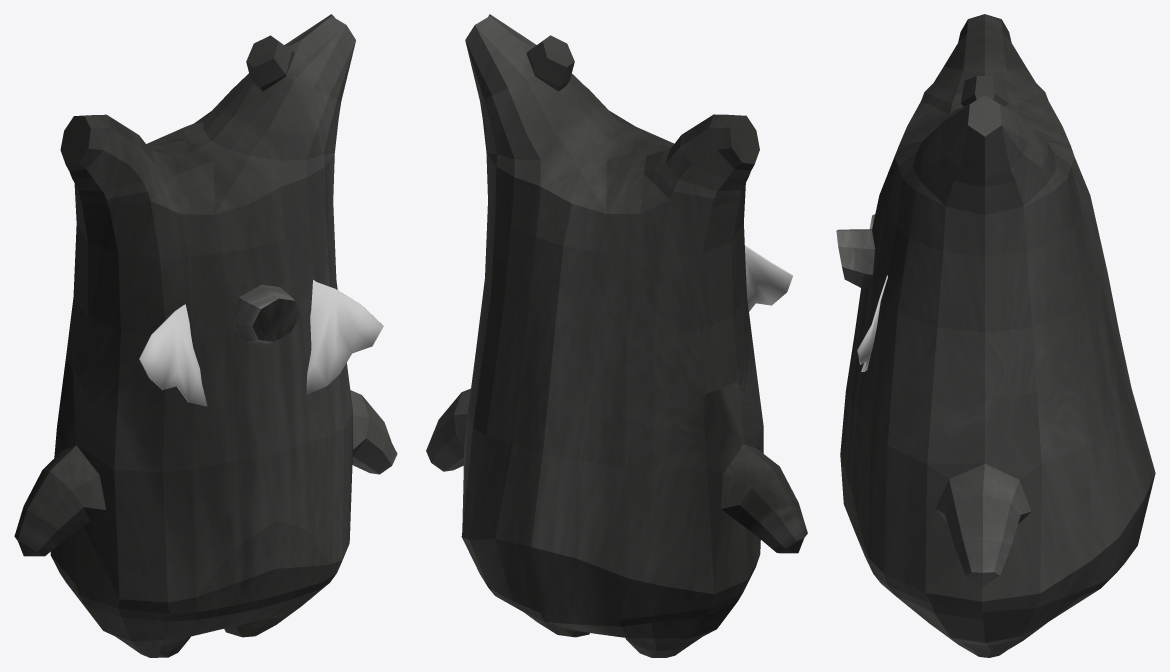
The model's file is frame_0016.obj.
The picture shows the model from 3 angles, left to right: view 1: azimuth 30°, elevation 25°; view 2: azimuth 150°, elevation 25°; view 3: azimuth 270°, elevation 25°; orthographic projection.
Parts seen in each view (by area): view 1: korok, leaf, nose; view 2: korok, leaf; view 3: korok, nose, leaf.
Boxes of the visible parts, box(x1,y1,x2,y2) form: korok: box(14, 14, 397, 657); leaf: box(139, 280, 383, 406); nose: box(232, 284, 300, 345); korok: box(426, 14, 807, 657); leaf: box(745, 245, 792, 311); korok: box(840, 14, 1155, 657); nose: box(836, 229, 875, 290); leaf: box(857, 214, 887, 372).
Bounding box in the file's own units: 1.61 × 2.46 × 1.18.
